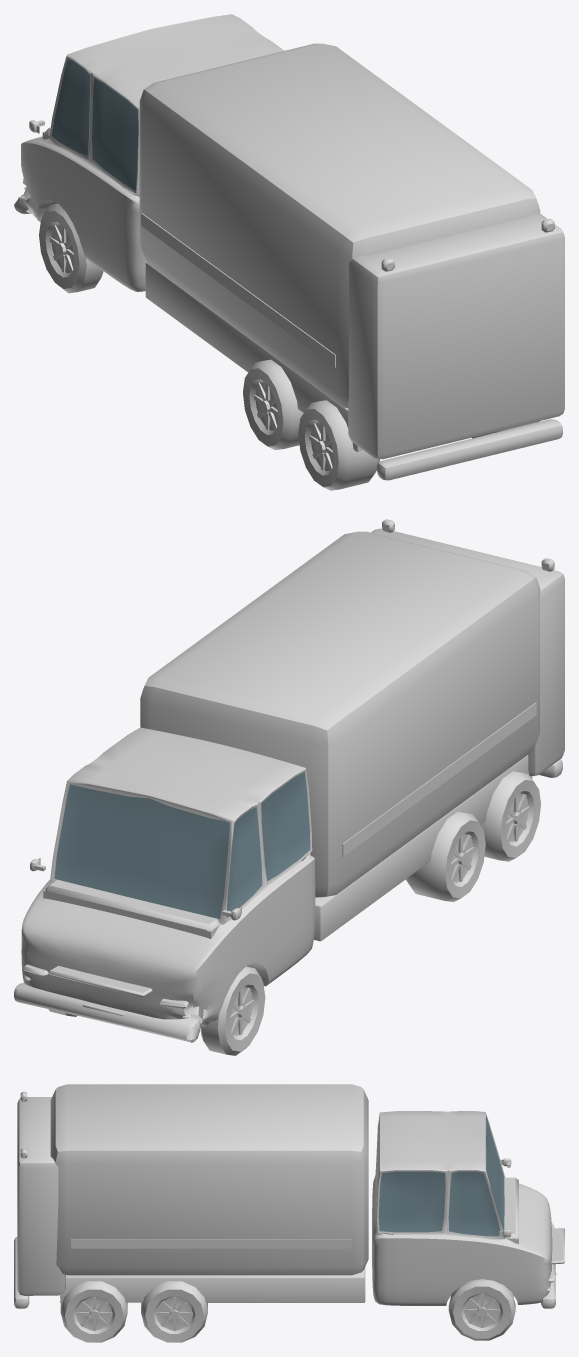
Rendered from car_garbage_dmg1.glb.
3 views of the same model, one above another, from view 1: azimuth 30°, elevation 25°; view 2: azimuth 150°, elevation 25°; view 3: azimuth 270°, elevation 25° (orthographic). The views are drawn at different scales.
Visible parts, largest first — view 1: car_garbage_dmg1; view 2: car_garbage_dmg1; view 3: car_garbage_dmg1.
Boxes of the visible parts, box(x1,y1,x2,y2) form: car_garbage_dmg1: box(14, 14, 564, 490); car_garbage_dmg1: box(14, 519, 564, 1055); car_garbage_dmg1: box(14, 1084, 564, 1342).
Bounding box in the file's own units: 2.6 × 3.24 × 8.24.
